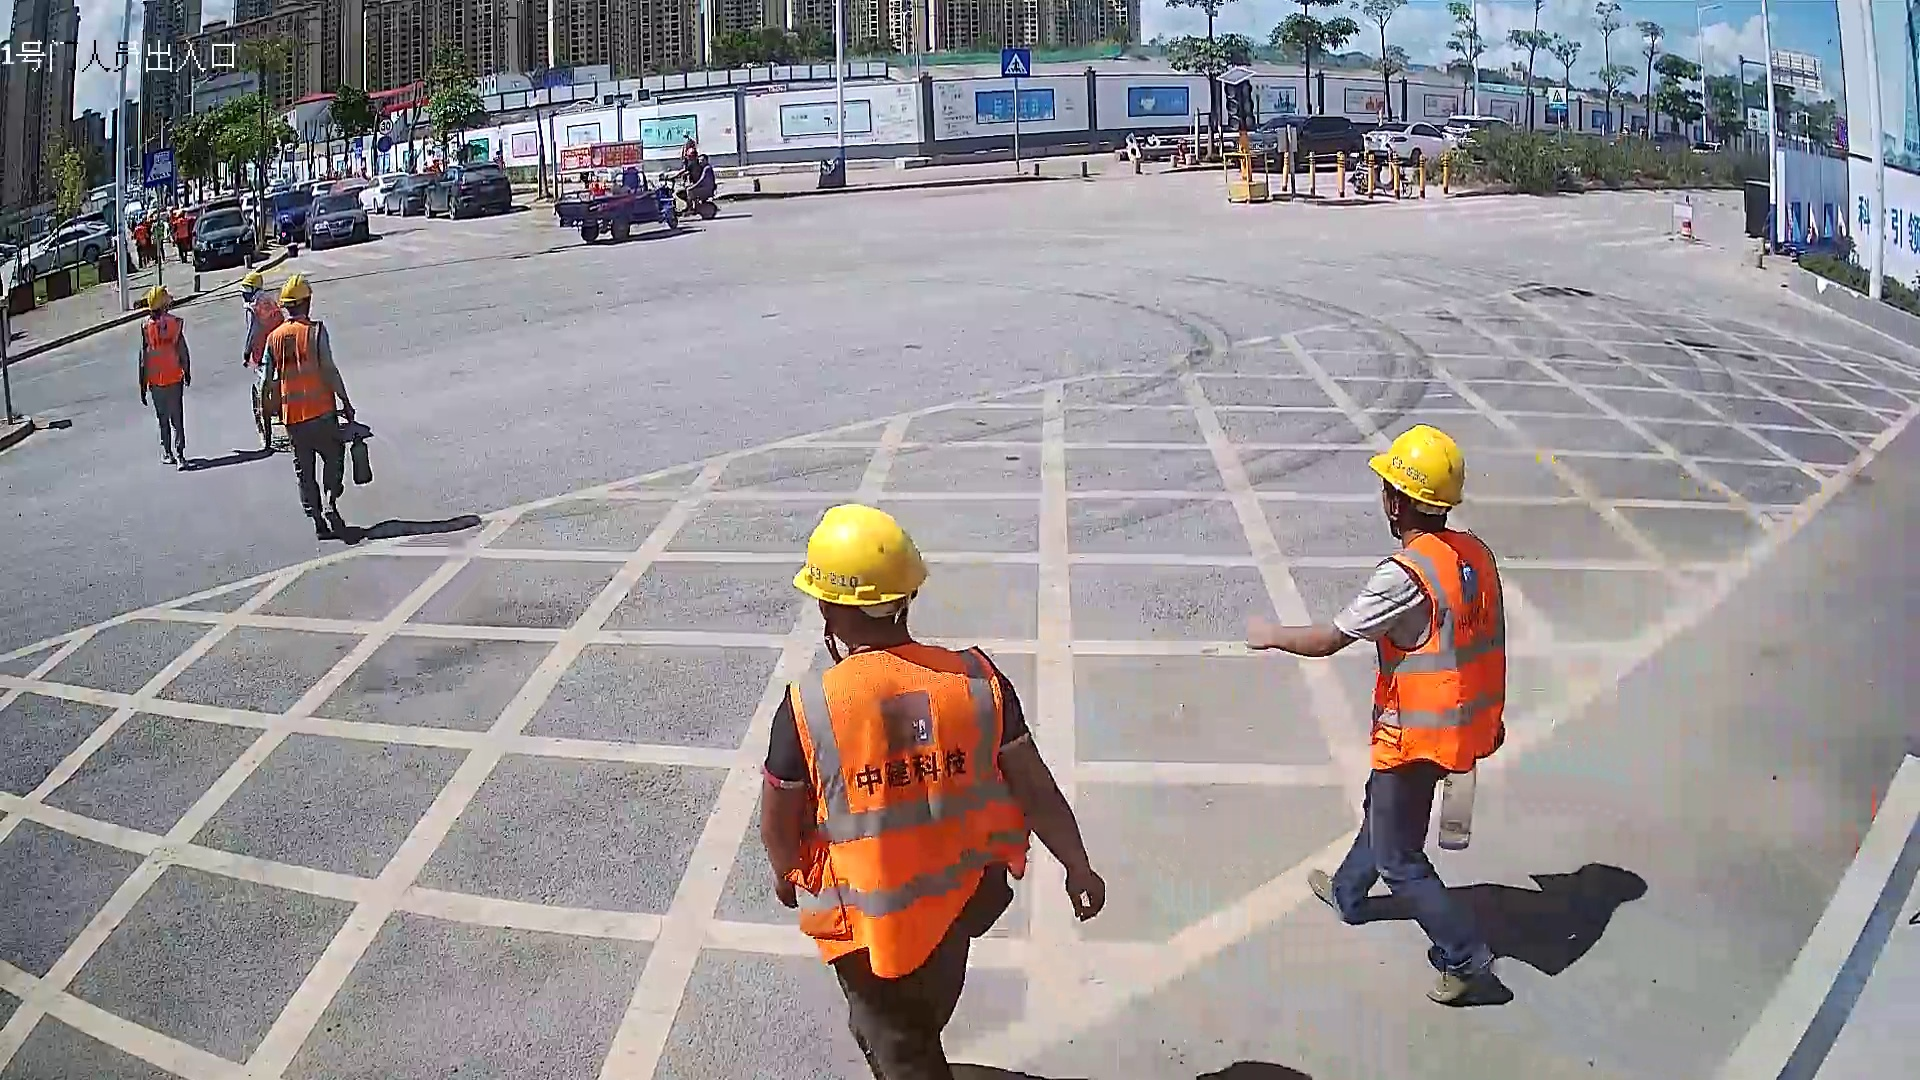person: (753, 496, 1109, 1080), (1237, 424, 1511, 1010), (261, 273, 358, 541), (136, 282, 193, 472), (238, 269, 285, 364)
reflective_vest: (782, 637, 1030, 981), (1362, 528, 1508, 777), (266, 316, 335, 424), (140, 313, 185, 390), (246, 293, 285, 365)
safety_helmet: (792, 497, 932, 648), (1367, 424, 1468, 541), (276, 271, 314, 317), (146, 282, 175, 317), (239, 270, 265, 303)
